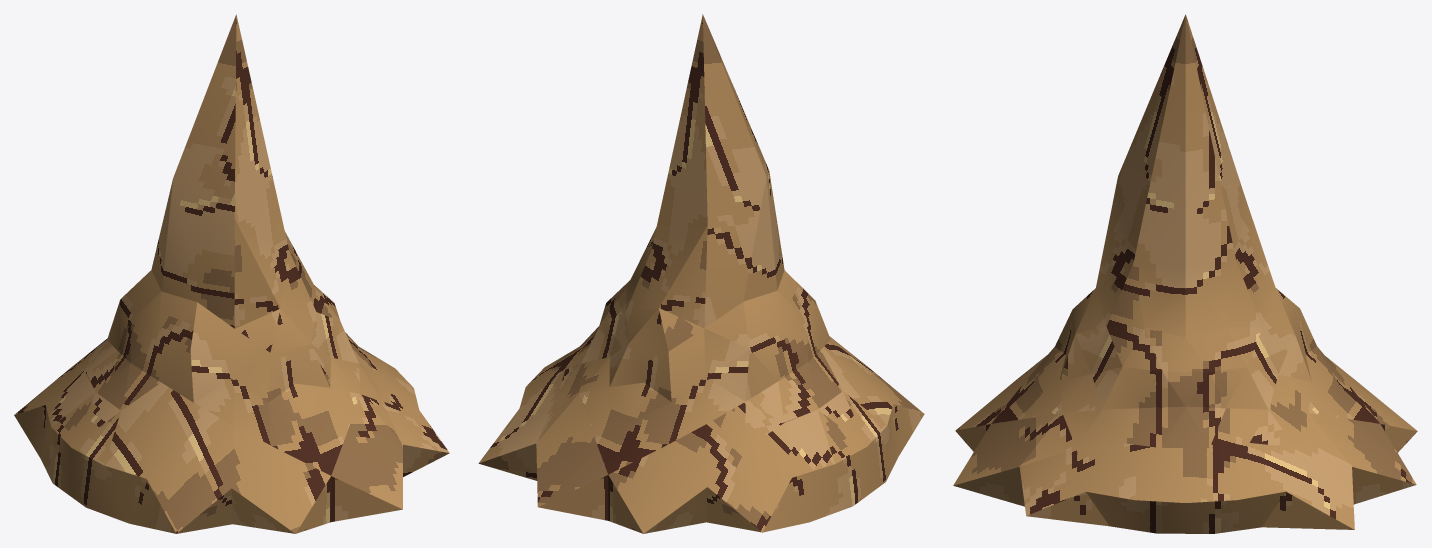
File: stalagmite-300-15.glb
The picture shows the model from 3 angles, left to right: view 1: azimuth 30°, elevation 25°; view 2: azimuth 150°, elevation 25°; view 3: azimuth 270°, elevation 25°; orthographic projection. The views are drawn at different scales.
Size of the model in its own units: 0.6935 by 0.9203 by 0.824.
Materials: 1 (1 with a texture image).
